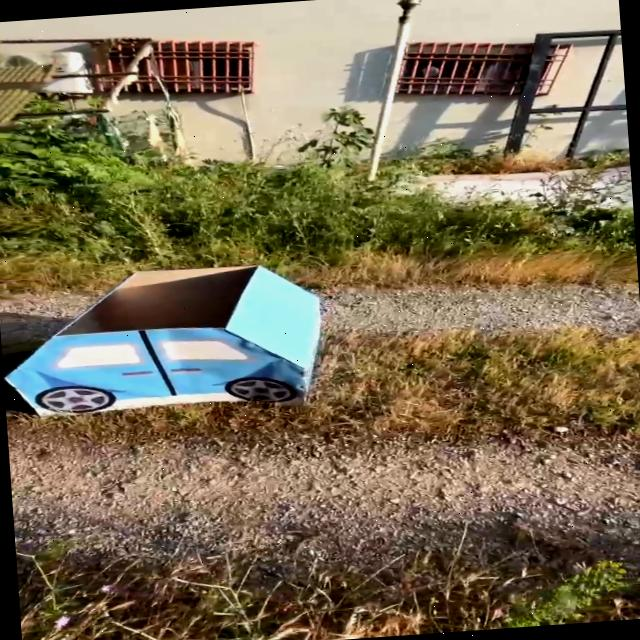blue_car: (0, 232, 352, 448)
